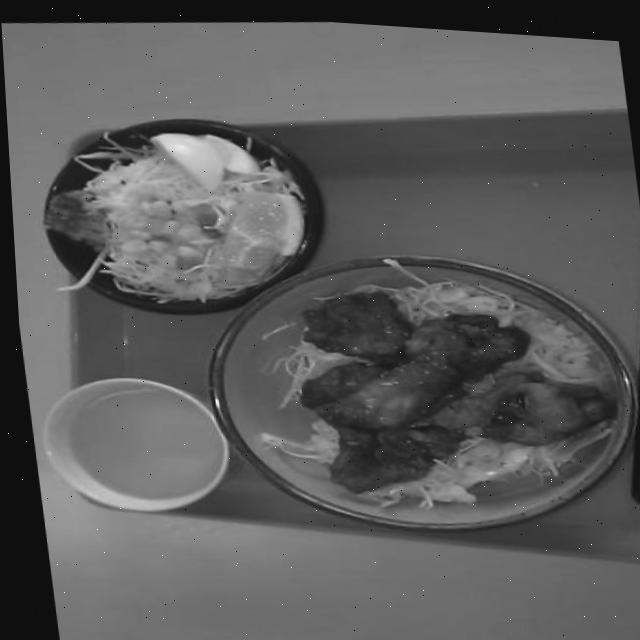蔬菜料理: (33, 87, 342, 336)
